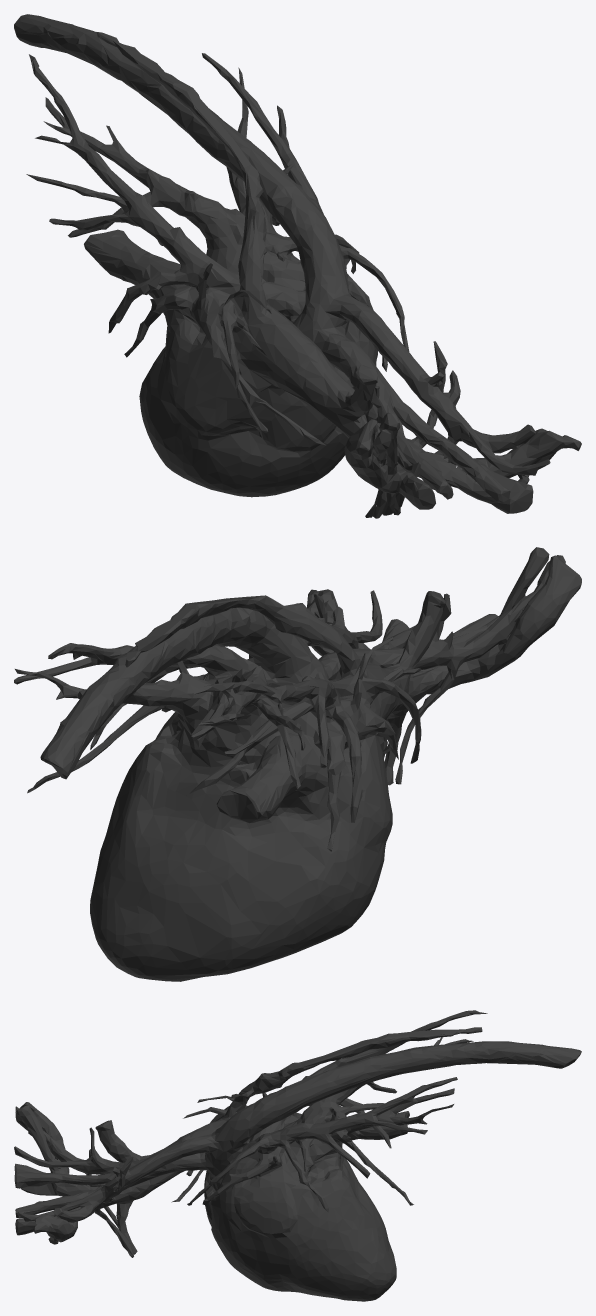
File: Vasculature_decimate.glb
3 renders of one model, top to bottom at view 1: azimuth 30°, elevation 25°; view 2: azimuth 150°, elevation 25°; view 3: azimuth 270°, elevation 25°, orthographic. The views are drawn at different scales.
Visible parts, largest first — view 1: Vasculature_decimate; view 2: Vasculature_decimate; view 3: Vasculature_decimate.
Boxes of the visible parts, x1,y1,x2,y2 form: Vasculature_decimate: [14, 14, 581, 518]; Vasculature_decimate: [14, 547, 581, 981]; Vasculature_decimate: [14, 1010, 581, 1301].
Bounding box in the file's own units: 1.25 × 1.55 × 3.22.
1 material, 1 textured.
